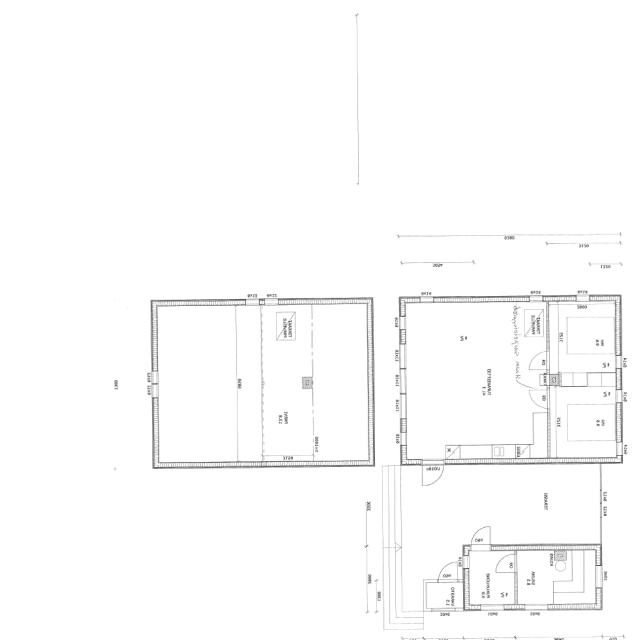door: (422, 459, 444, 487), (471, 526, 490, 551), (438, 562, 458, 584), (496, 554, 518, 573), (527, 352, 550, 370), (527, 391, 550, 409)
